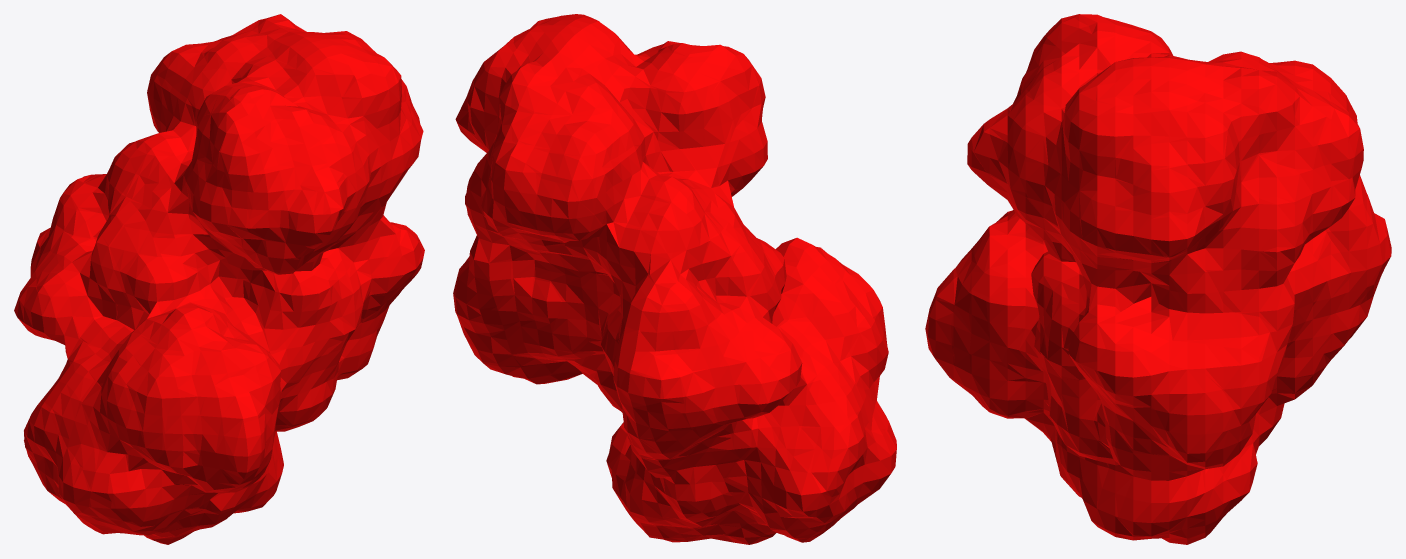
File: sucC_coarse.dae
3 renders of one model, left to right at view 1: azimuth 30°, elevation 25°; view 2: azimuth 150°, elevation 25°; view 3: azimuth 270°, elevation 25°, orthographic. The views are drawn at different scales.
Visible parts, largest first — view 1: sucC; view 2: sucC; view 3: sucC.
Part boxes in pixels (x1,y1,x2,y2): sucC: [14, 14, 424, 544]; sucC: [453, 14, 896, 544]; sucC: [925, 14, 1391, 544].
Size of the model in its own units: 93.54 by 107 by 83.42.
